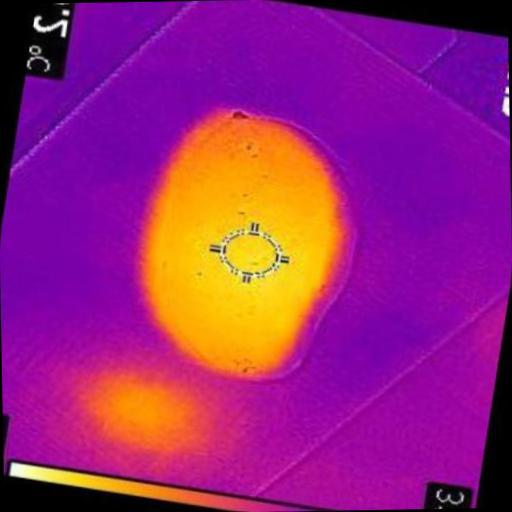alphanso: (142, 110, 352, 379)
